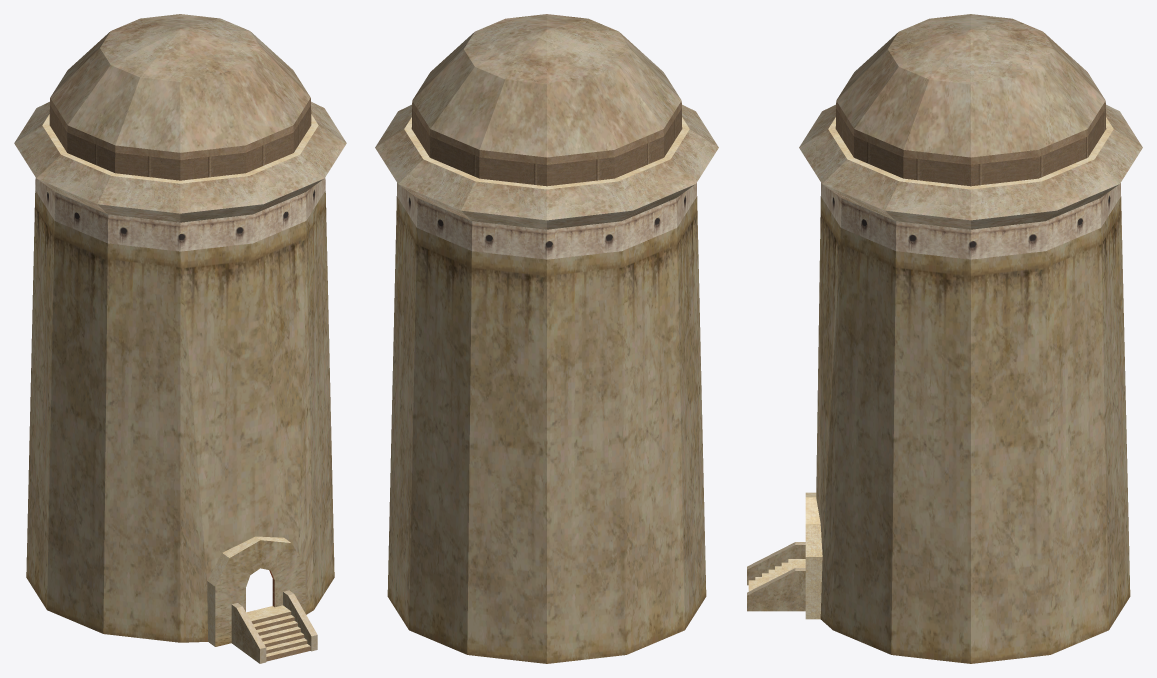
The model's file is thm_tato_imprv_building_s09_r0_mesh_l1.fbx.
The picture shows the model from 3 angles, left to right: view 1: azimuth 30°, elevation 25°; view 2: azimuth 150°, elevation 25°; view 3: azimuth 270°, elevation 25°; orthographic projection. The views are drawn at different scales.
Parts seen in each view (by area): view 1: mesh_node; view 2: mesh_node; view 3: mesh_node.
Part boxes in pixels (left/top/right/bottom): mesh_node: left=14, top=14, right=346, bottom=663; mesh_node: left=375, top=14, right=718, bottom=663; mesh_node: left=747, top=14, right=1142, bottom=663.
Size of the model in its own units: 21.87 by 39.78 by 25.18.
